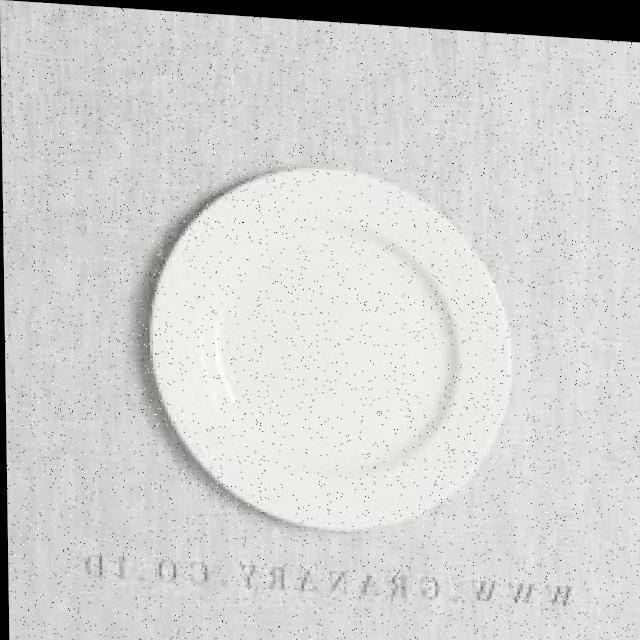plate: (132, 136, 534, 552)
